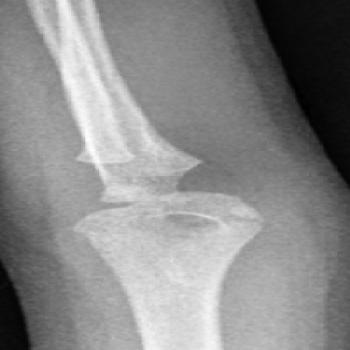Fracture: (70, 146, 136, 210)
